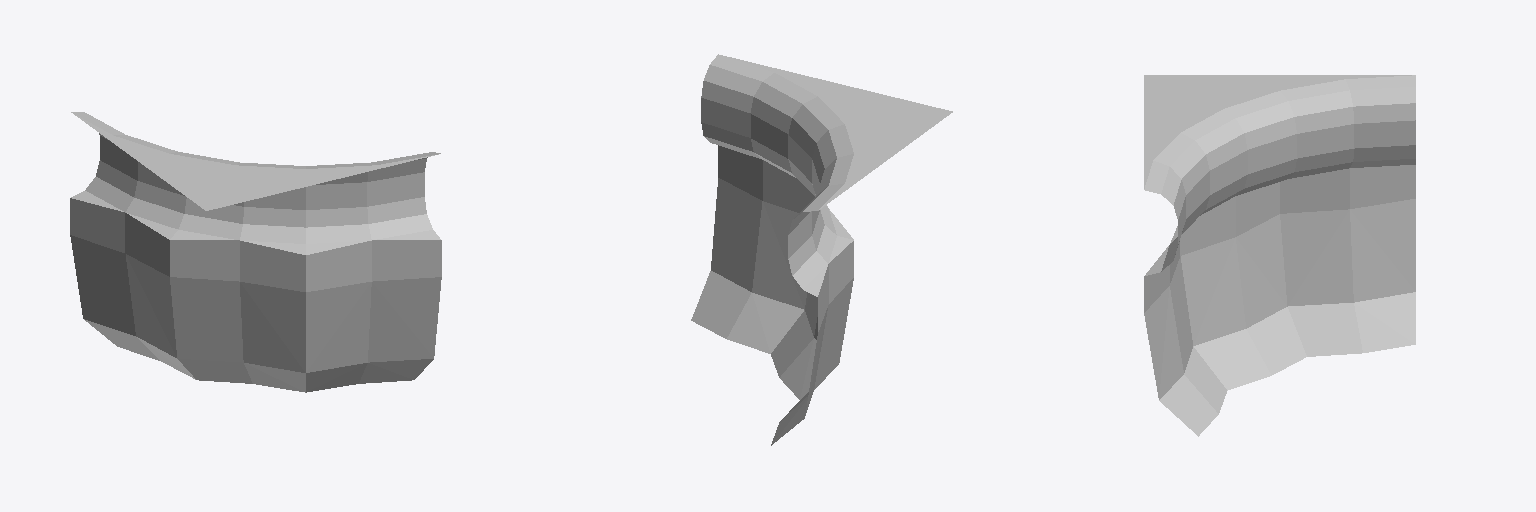
The model's file is Terrain_Cliff_2_Tall_Corner_Inner_2x2.obj.
3 views of the same model, side by side, from view 1: azimuth 30°, elevation 25°; view 2: azimuth 150°, elevation 25°; view 3: azimuth 270°, elevation 25° (orthographic).
Visible parts, largest first — view 1: Rock, Grass; view 2: Grass, Rock; view 3: Rock, Grass.
Part boxes in pixels (x1,y1,x2,y2): Rock: (70,198,441,392); Grass: (71,112,440,254); Grass: (701,54,952,296); Rock: (691,145,853,445); Rock: (1144,165,1415,436); Grass: (1144,75,1415,275).
Bounding box in the file's own units: 2 × 2 × 2.